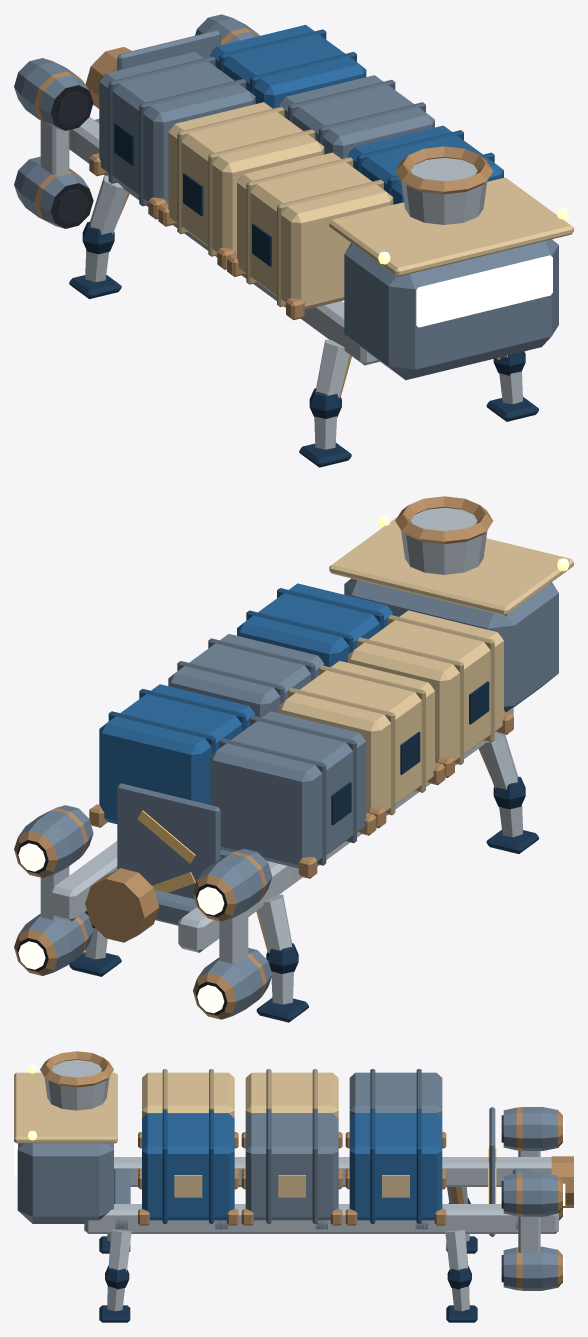
File: rin-f_gelandet.glb
3 renders of one model, top to bottom at view 1: azimuth 30°, elevation 25°; view 2: azimuth 150°, elevation 25°; view 3: azimuth 270°, elevation 25°, orthographic. The views are drawn at different scales.
Parts seen in each view (by area): view 1: cockpitmodul, container_2, container_6, container_4, container_5, container_3, andockkragen, triebwerk_2, container_1, triebwerk_4, landebein_2, landebein_4 (+7 smaller); view 2: container_6, cockpitmodul, container_5, container_2, container_4, rampe, container_1, container_3, trägerrahmen, andockkragen, triebwerk_1, triebwerk_2 (+7 smaller); view 3: cockpitmodul, trägerrahmen, container_3, container_5, container_1, container_6, container_4, container_2, andockkragen, triebwerk_1, triebwerk_2, triebwerk_3 (+9 smaller).
Part boxes in pixels (left/top/right/bottom): cockpitmodul: left=329, top=177, right=573, bottom=380; container_2: left=237, top=152, right=393, bottom=309; container_6: left=99, top=52, right=255, bottom=206; container_4: left=168, top=102, right=324, bottom=256; container_5: left=210, top=24, right=366, bottom=108; container_3: left=279, top=75, right=434, bottom=158; andockkragen: left=395, top=146, right=492, bottom=224; triebwerk_2: left=14, top=58, right=93, bottom=130; container_1: left=348, top=125, right=503, bottom=204; triebwerk_4: left=14, top=156, right=93, bottom=228; landebein_2: left=299, top=339, right=351, bottom=467; landebein_4: left=69, top=175, right=129, bottom=298; container_6: left=210, top=711, right=366, bottom=868; cockpitmodul: left=329, top=517, right=573, bottom=712; container_5: left=99, top=684, right=255, bottom=823; container_2: left=348, top=610, right=503, bottom=764; container_4: left=279, top=661, right=434, bottom=815; rampe: left=117, top=783, right=220, bottom=899; container_1: left=237, top=583, right=393, bottom=667; container_3: left=168, top=634, right=324, bottom=717; trägerrahmen: left=50, top=707, right=513, bottom=952; andockkragen: left=395, top=496, right=493, bottom=574; triebwerk_1: left=14, top=805, right=93, bottom=877; triebwerk_2: left=193, top=848, right=272, bottom=921; cockpitmodul: left=14, top=1072, right=117, bottom=1223; trägerrahmen: left=84, top=1157, right=558, bottom=1233; container_3: left=245, top=1109, right=338, bottom=1223; container_5: left=349, top=1109, right=442, bottom=1223; container_1: left=142, top=1109, right=234, bottom=1223; container_6: left=349, top=1069, right=442, bottom=1117; container_4: left=245, top=1069, right=338, bottom=1118; container_2: left=142, top=1069, right=234, bottom=1118; andockkragen: left=40, top=1051, right=113, bottom=1110; triebwerk_1: left=501, top=1172, right=565, bottom=1216; triebwerk_2: left=501, top=1107, right=565, bottom=1150; triebwerk_3: left=501, top=1246, right=565, bottom=1290.
Size of the model in its own units: 0.0675 by 0.0812 by 0.1887.
